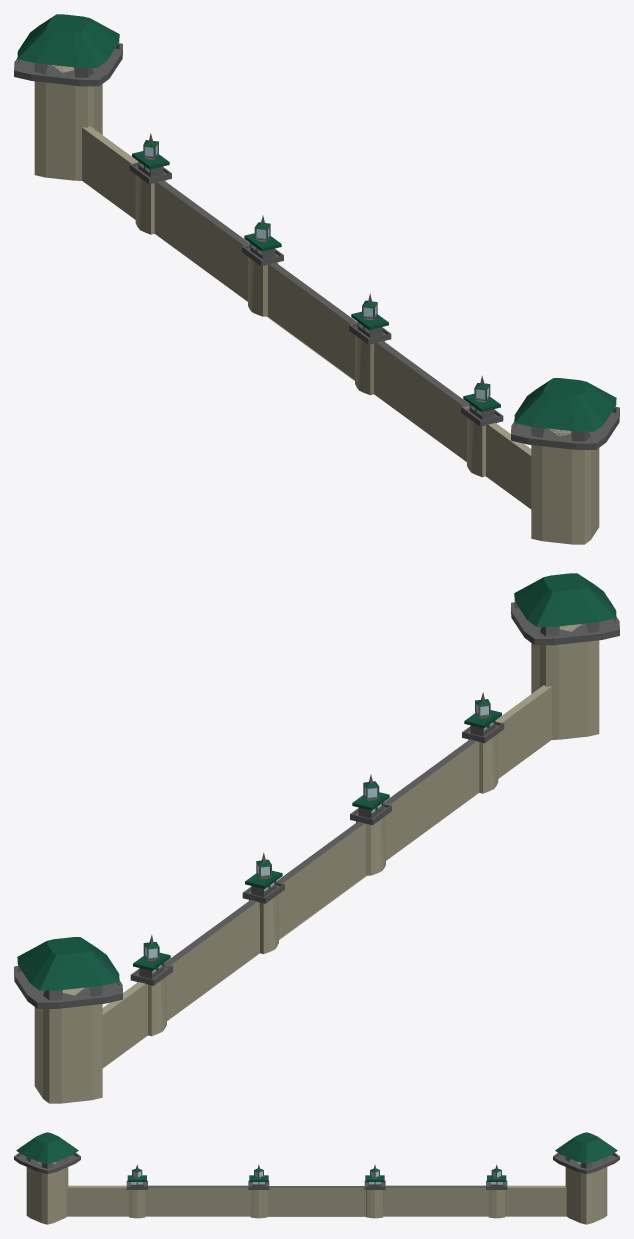
Rendered from wall.fbx.
3 renders of one model, top to bottom at view 1: azimuth 30°, elevation 25°; view 2: azimuth 150°, elevation 25°; view 3: azimuth 270°, elevation 25°, orthographic. The views are drawn at different scales.
Parts seen in each view (by area): view 1: Cube; view 2: Cube; view 3: Cube.
Boxes of the visible parts, left/top/right/bottom form: Cube: left=14, top=14, right=619, bottom=544; Cube: left=14, top=573, right=619, bottom=1103; Cube: left=14, top=1132, right=619, bottom=1224.
Size of the model in its own units: 3555 by 4472 by 31527.
